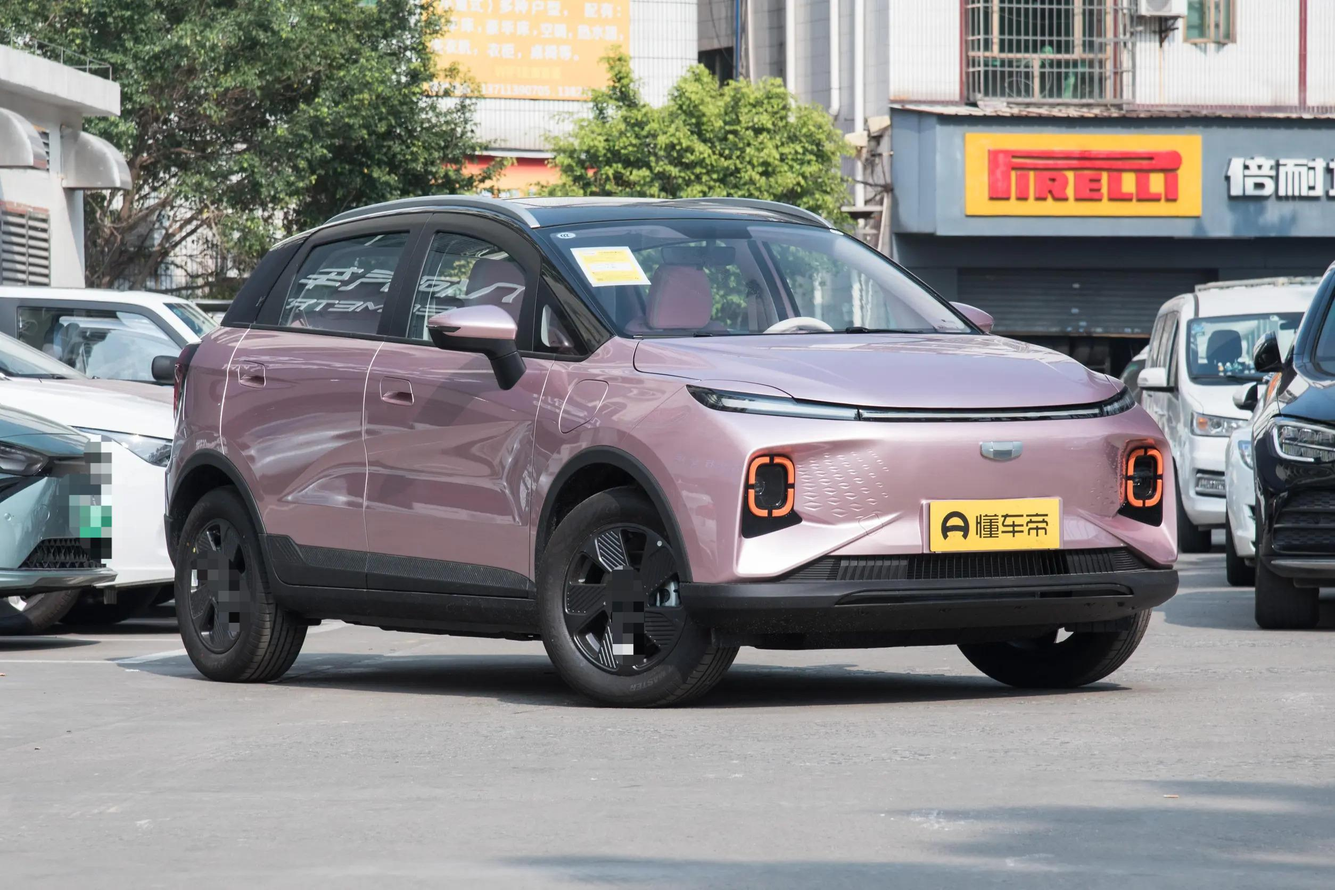GEOMETRY: (982, 442, 1022, 459)
